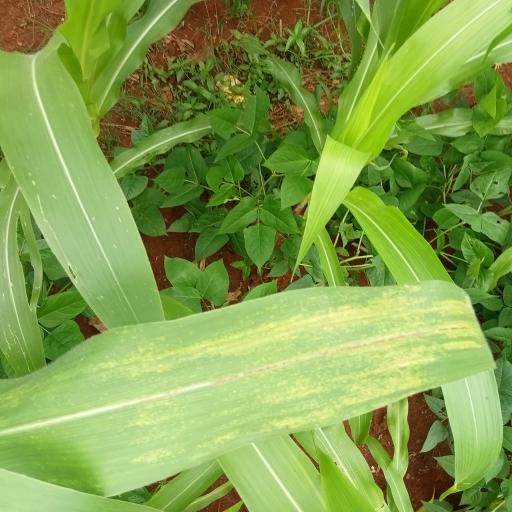Corn_Brown_Spots: (4, 277, 483, 496)
